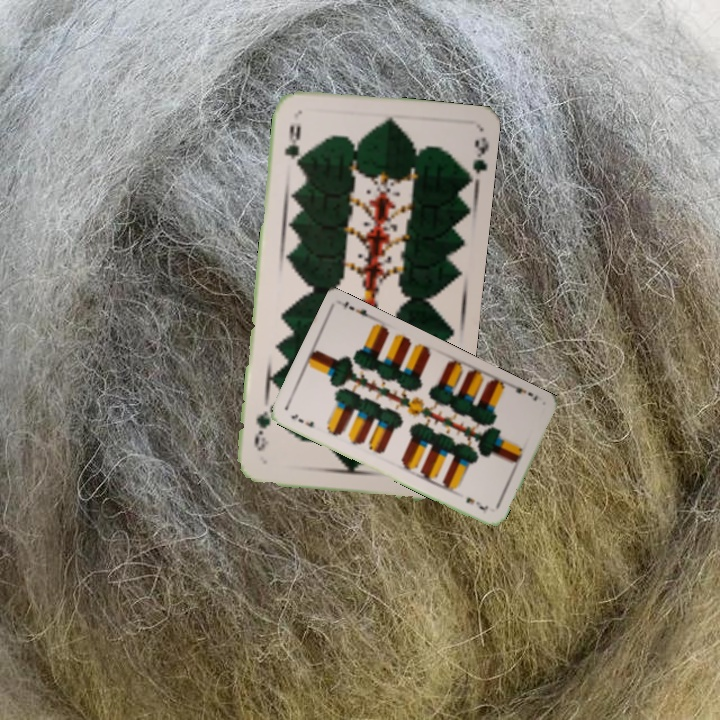E7: (507, 380, 541, 404), (287, 410, 317, 430)
G9: (280, 120, 304, 168)
